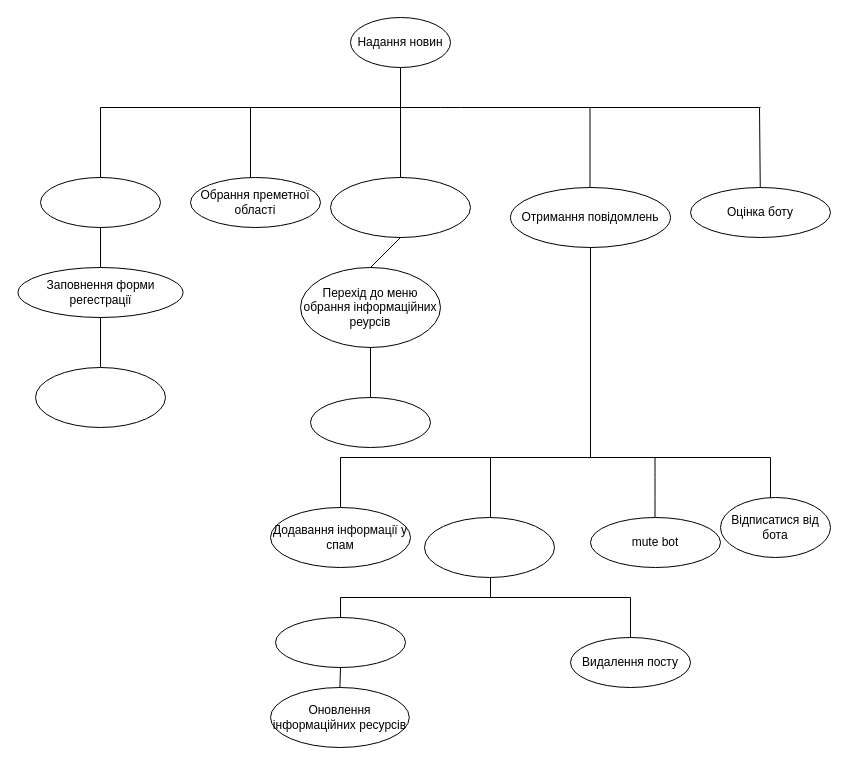
Some shapes in this 848 by 765 pixel diagram are drawn without their labels. The box of each missing label's shape, as (x1, y1, x2, y2) in pixels:
Update, Delete: (424, 516, 554, 578)
Обрання необхідних: (310, 396, 430, 448)
Пошук нової предметної області: (274, 616, 406, 668)
Пошук інформаційних ресурсів: (330, 176, 470, 238)
Підтвердження правильності даних: (34, 366, 166, 428)
Регестрація у бота: (40, 176, 160, 228)
